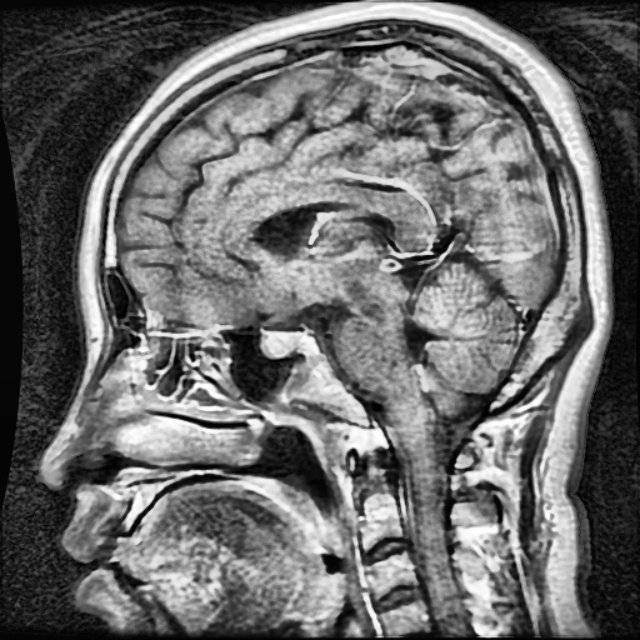Pituitary: (260, 327, 304, 359)
